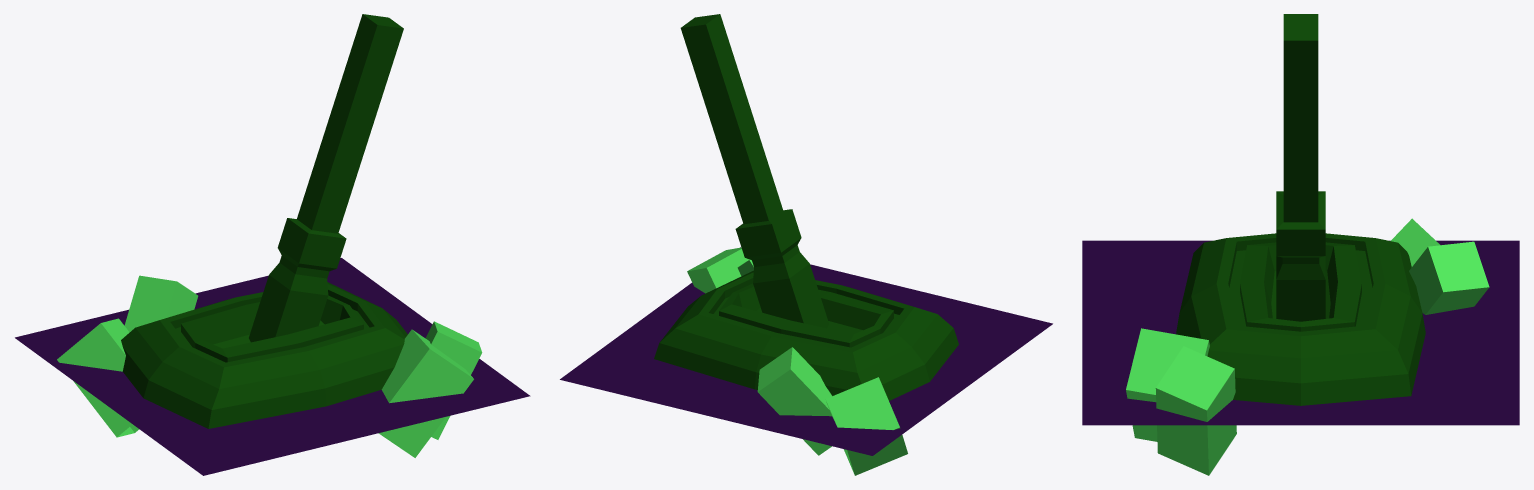
Rendered from Tile_Levier.FBX.
3 views of the same model, side by side, from view 1: azimuth 30°, elevation 25°; view 2: azimuth 150°, elevation 25°; view 3: azimuth 270°, elevation 25° (orthographic). The views are drawn at different scales.
Visible parts, largest first — view 1: Cylinder022, Levier, Box167, Box458; view 2: Levier, Cylinder022, Box167, Box458; view 3: Levier, Cylinder022, Box458, Box167.
Boxes of the visible parts, x1,y1,x2,y2 form: Cylinder022: (121,282,407,428); Levier: (15,258,530,475); Box167: (249,14,403,342); Box458: (57,275,482,457); Levier: (560,247,1052,455); Cylinder022: (654,270,958,400); Box167: (680,14,828,328); Box458: (687,247,907,475); Levier: (1082,240,1519,425); Cylinder022: (1176,233,1425,405); Box458: (1126,218,1489,475); Box167: (1276,14,1325,321).
Bounding box in the file's own units: 2.01 × 2.33 × 2.
